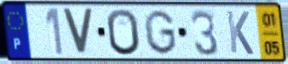1: (43, 6, 65, 58)
3: (189, 7, 220, 58)
G: (142, 8, 179, 57)
K: (224, 9, 256, 56)
O: (105, 8, 142, 58)
V: (60, 7, 95, 57)
